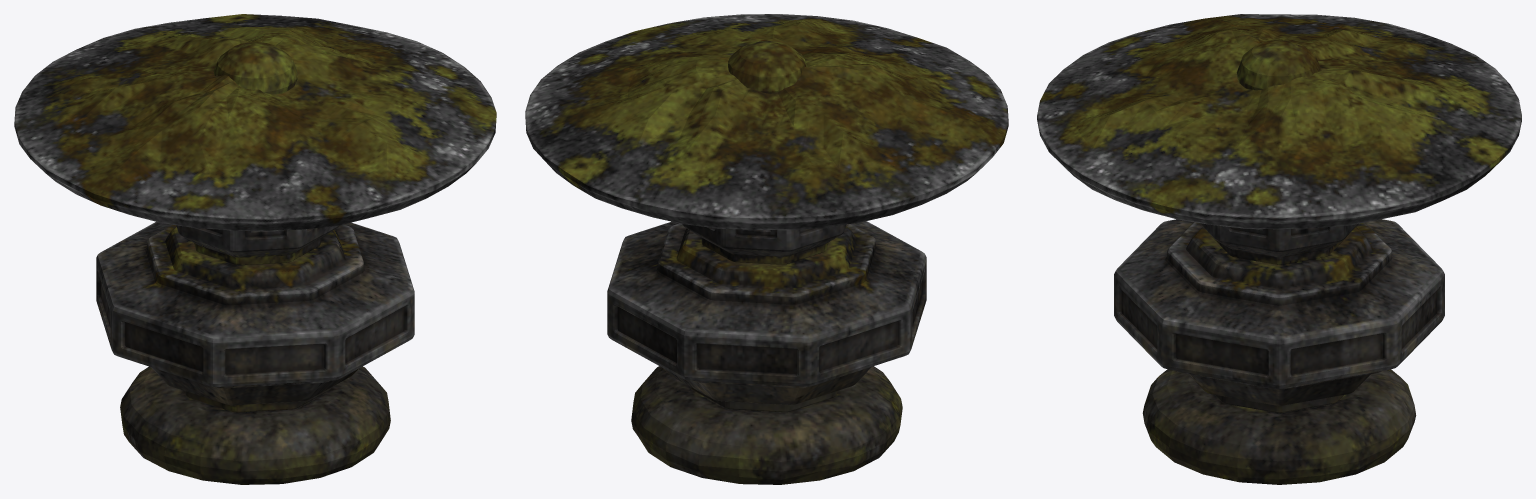
Rendered from SM_Haiti_Pagoda01.fbx.
The picture shows the model from 3 angles, left to right: view 1: azimuth 30°, elevation 25°; view 2: azimuth 150°, elevation 25°; view 3: azimuth 270°, elevation 25°; orthographic projection.
Parts seen in each view (by area): view 1: SM_Haiti_Pagoda01.mo; view 2: SM_Haiti_Pagoda01.mo; view 3: SM_Haiti_Pagoda01.mo.
Boxes of the visible parts, bbox=[...] form: SM_Haiti_Pagoda01.mo: bbox=[14, 14, 496, 484]; SM_Haiti_Pagoda01.mo: bbox=[525, 14, 1008, 484]; SM_Haiti_Pagoda01.mo: bbox=[1037, 14, 1521, 484].
Size of the model in its own units: 319 by 279 by 319.
